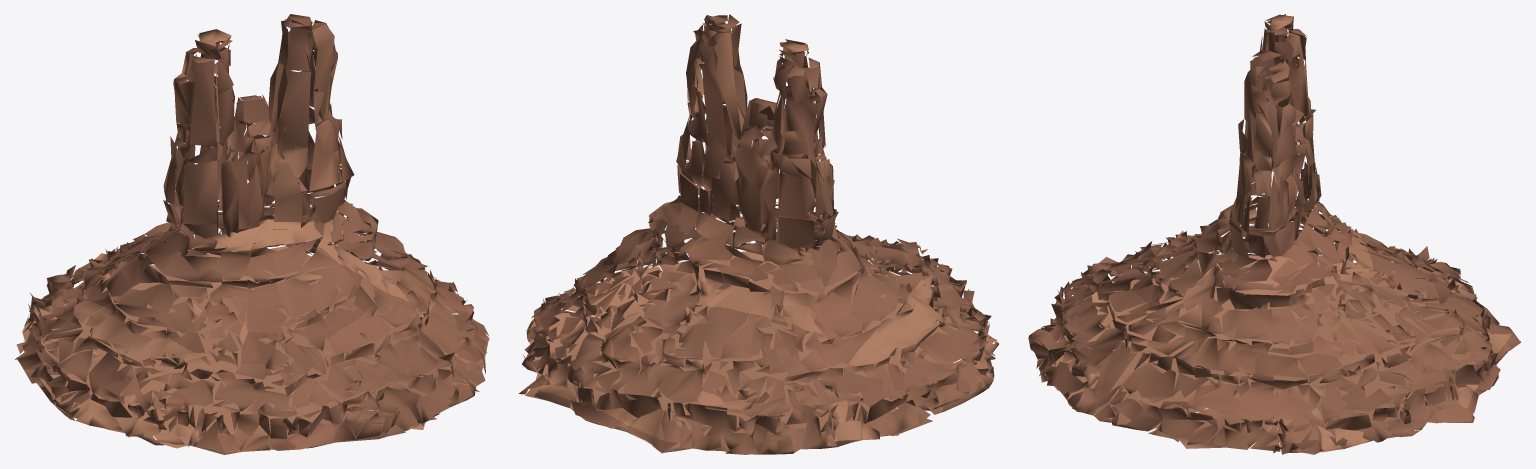
File: butte.glb
The picture shows the model from 3 angles, left to right: view 1: azimuth 30°, elevation 25°; view 2: azimuth 150°, elevation 25°; view 3: azimuth 270°, elevation 25°; orthographic projection.
Visible parts, largest first — view 1: LO.001; view 2: LO.001; view 3: LO.001.
Boxes of the visible parts, <box> form: LO.001: <box>15,14,489,454</box>; LO.001: <box>519,14,998,454</box>; LO.001: <box>1028,14,1520,454</box>.
Size of the model in its own units: 0.9706 by 0.7312 by 1.01.
1 material, 1 textured.
